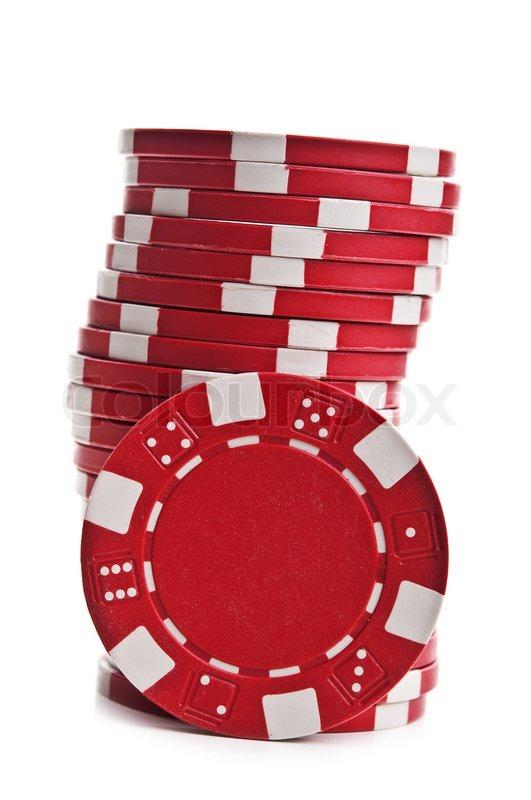chip-red: (83, 372, 448, 738), (98, 269, 430, 324), (106, 242, 441, 295), (78, 327, 405, 380), (89, 298, 416, 351), (112, 214, 447, 265), (127, 156, 458, 207), (123, 188, 455, 235), (69, 353, 223, 396)
